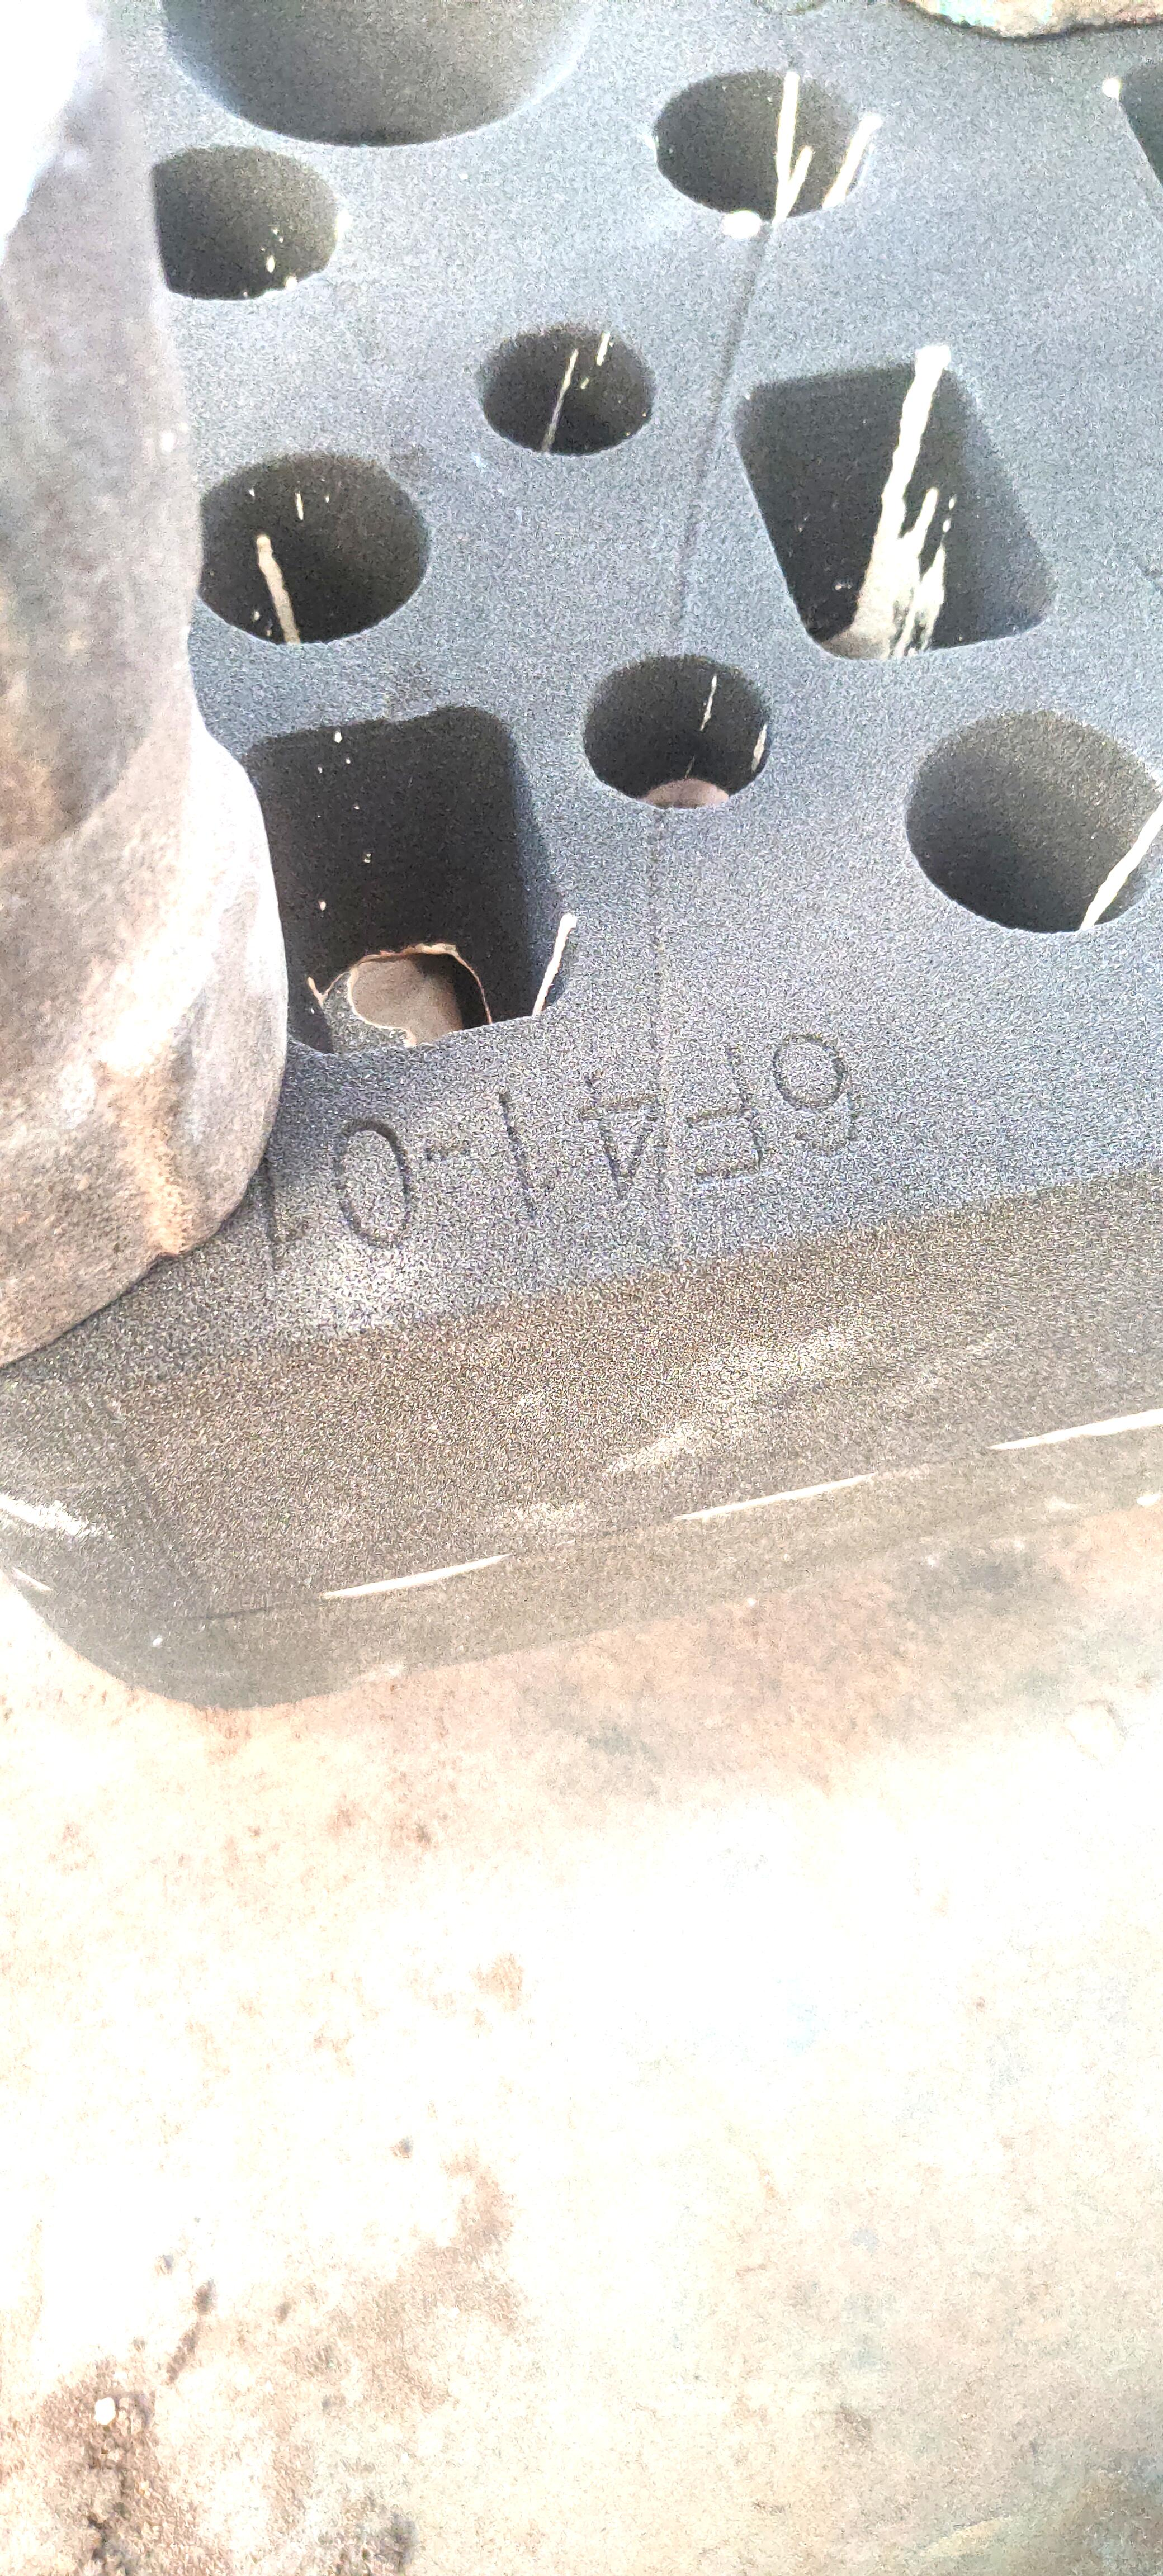pouring hole: (146, 0, 601, 154)
